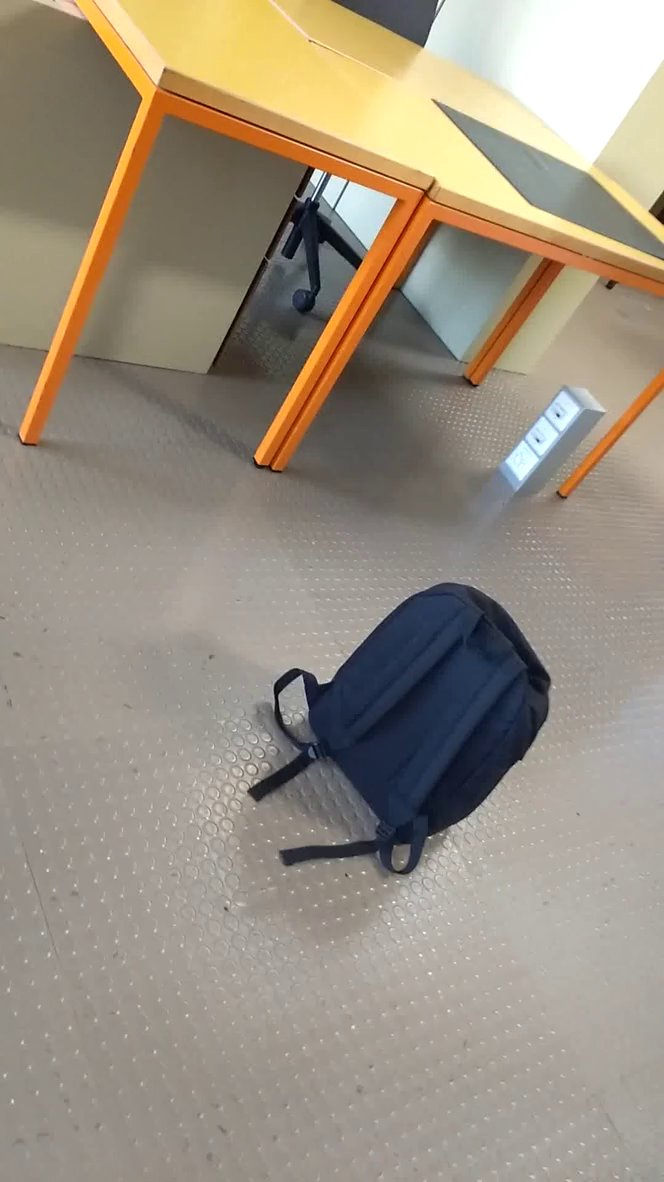bag: (246, 572, 560, 887)
